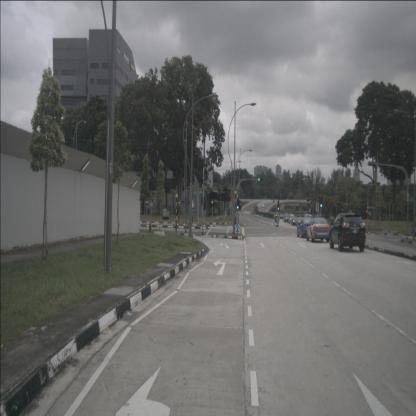movable_object-trafficcone: (149, 221, 152, 231)
vehicle-car: (329, 213, 366, 252), (306, 218, 331, 242), (297, 218, 314, 238), (291, 216, 299, 226), (288, 214, 295, 224), (284, 214, 290, 223), (282, 214, 288, 222)
